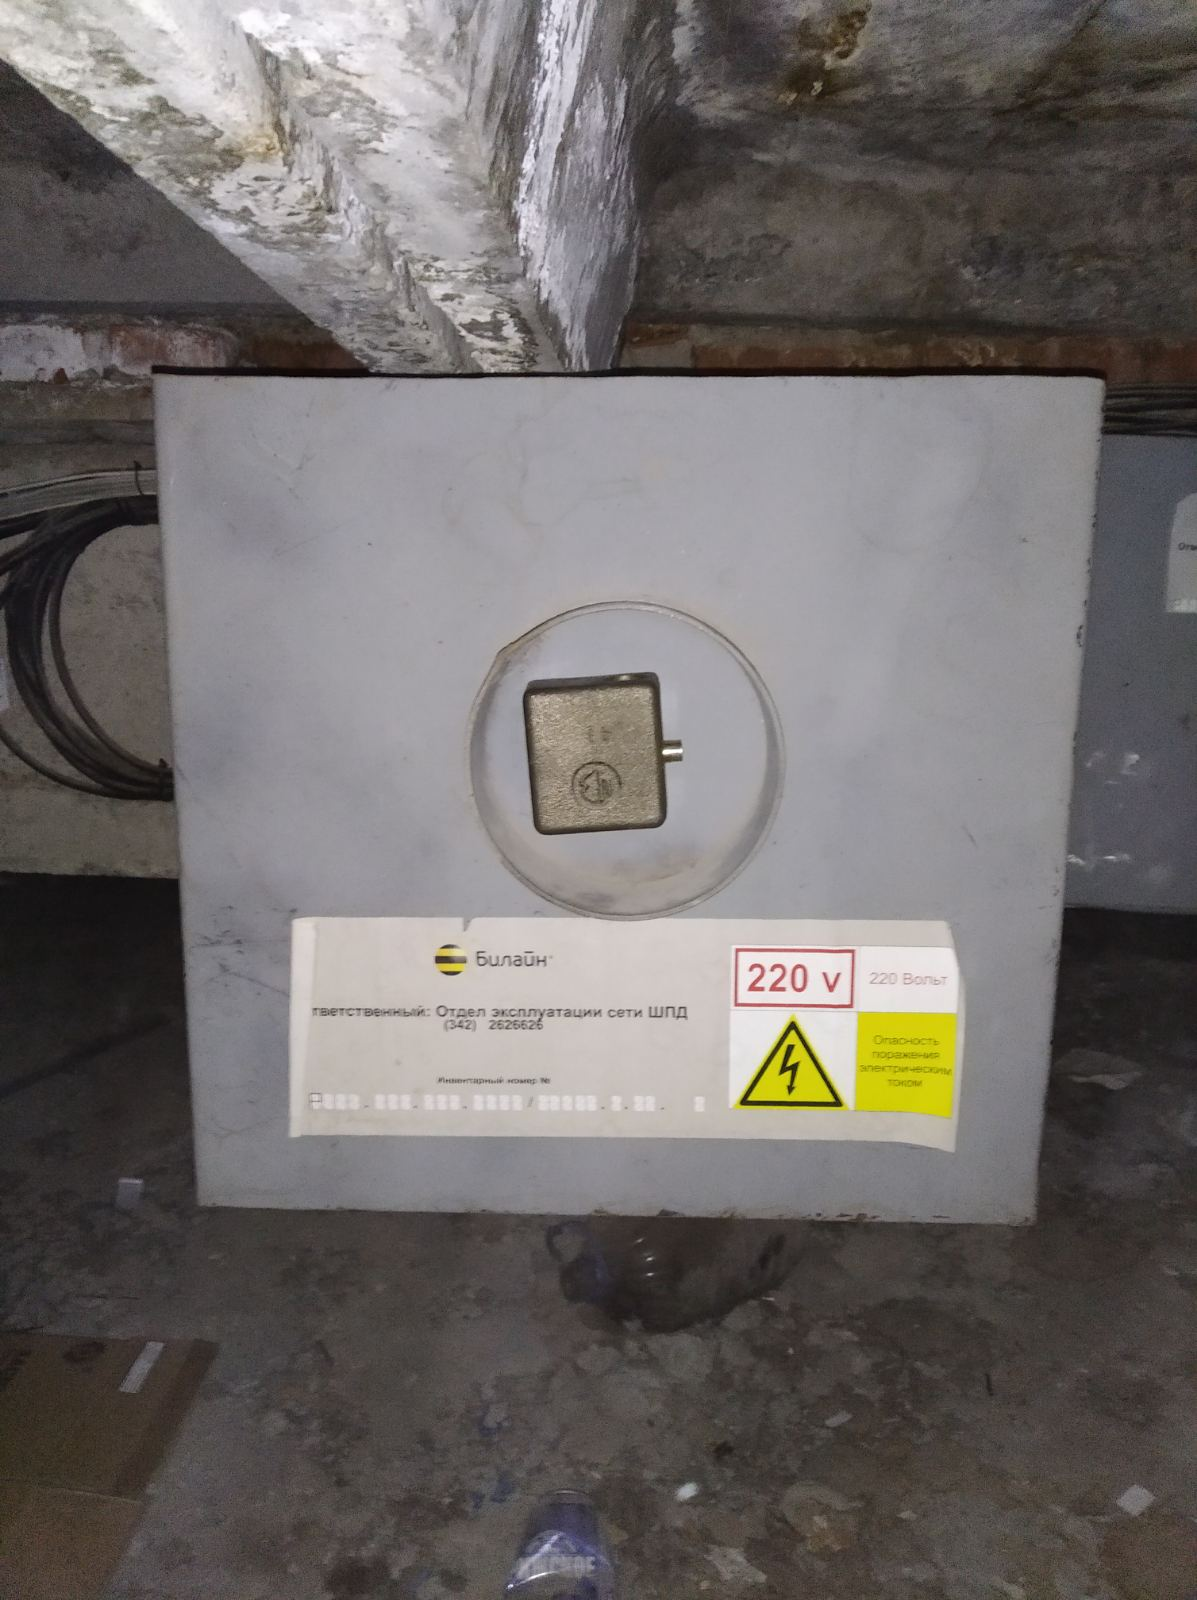shta-9: (136, 342, 1118, 1251)
